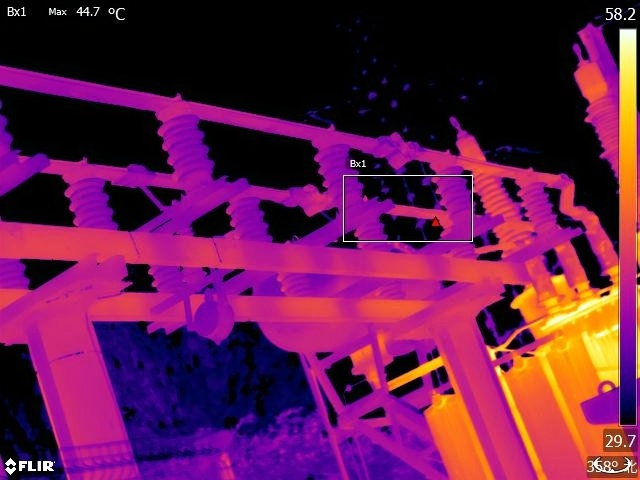post insulator: (153, 97, 223, 191), (61, 165, 117, 233), (312, 138, 366, 201), (223, 187, 277, 249), (425, 158, 475, 222), (345, 209, 396, 255), (516, 179, 556, 234), (145, 256, 187, 293), (275, 262, 312, 302), (373, 275, 406, 302)
transformer: (413, 282, 639, 480)
tube: (455, 121, 555, 286), (566, 48, 619, 181)
